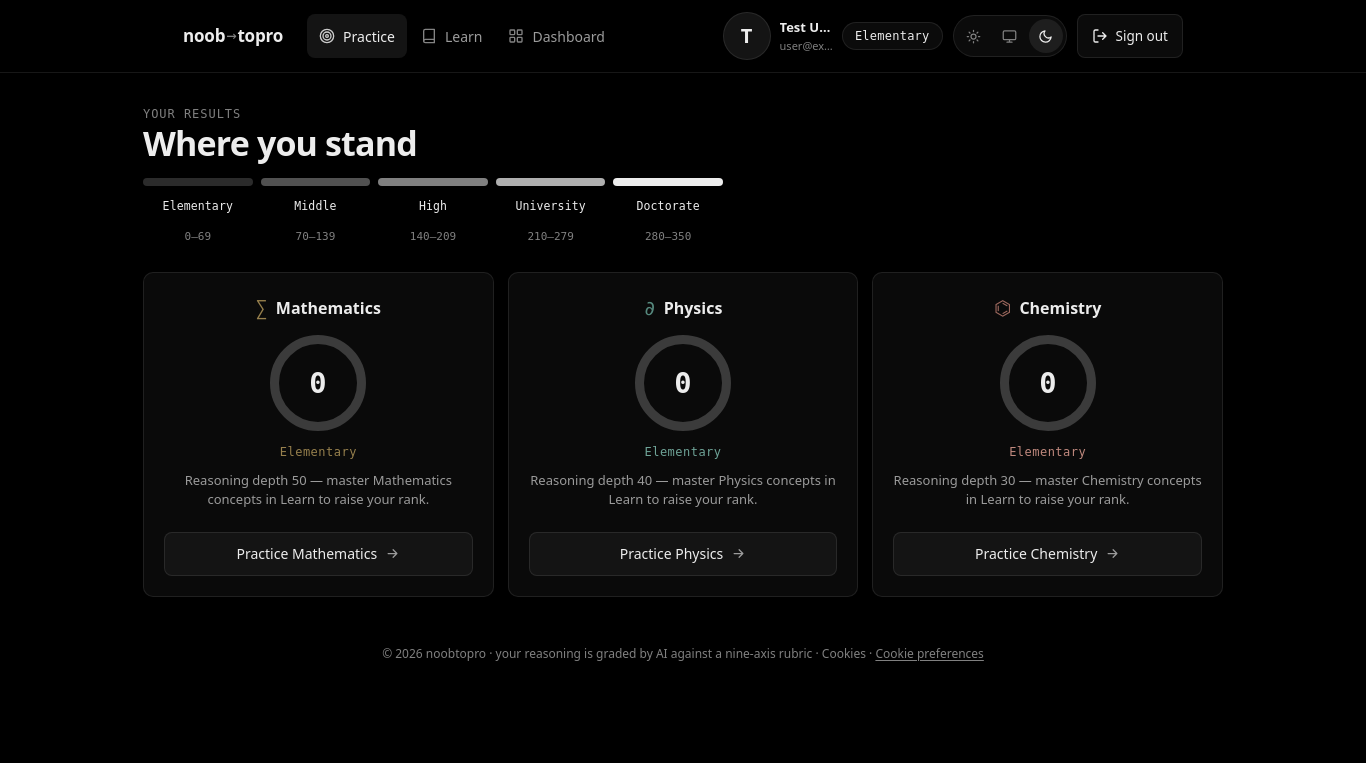
Test: Restart logo (reset) › signed-in: keeps persisted progress — Dashboard still shows stats after clicking the logo
Expected: the heading "Where you stand" is shown, [143, 120, 417, 166]
Click the button "Dashboard".
click(557, 36)  # box [496, 14, 617, 58]
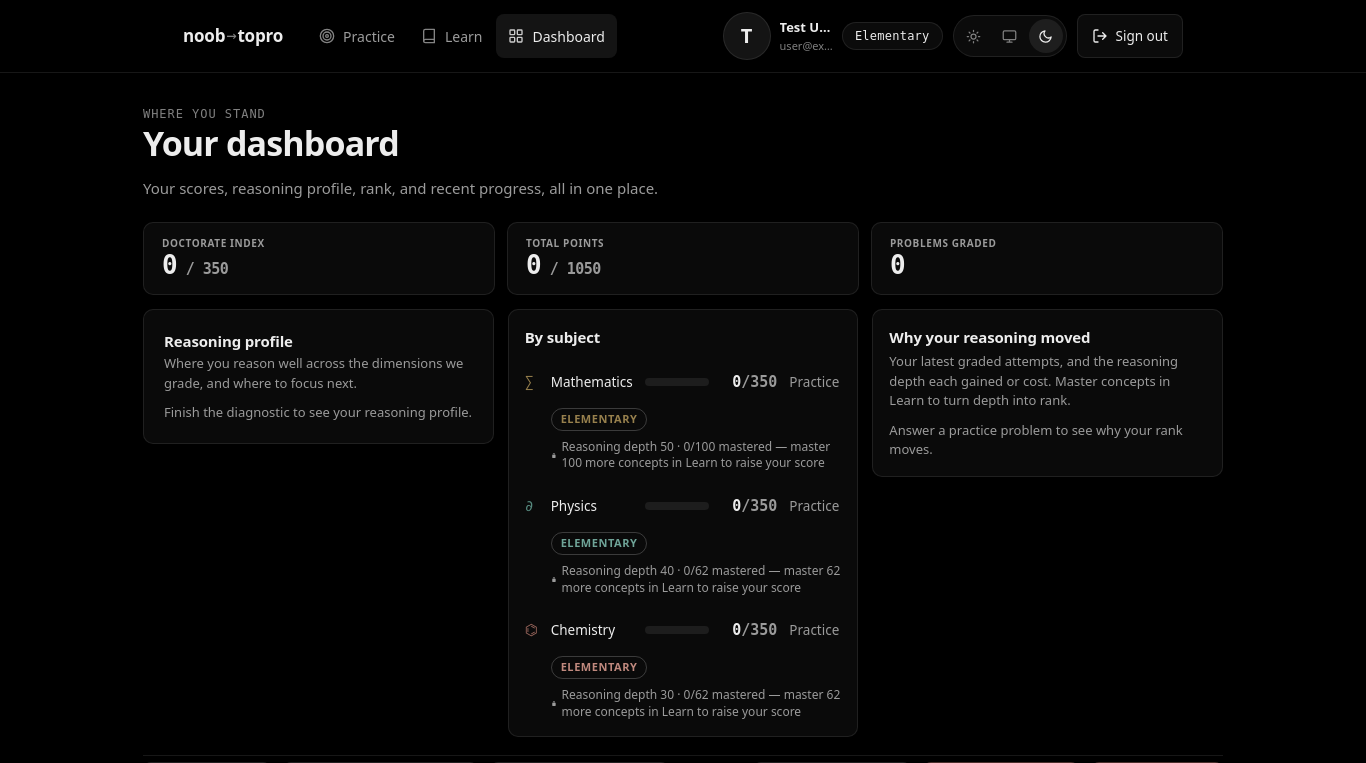
Result: the text "Doctorate index" is shown at [162, 236, 265, 250]
// Click the Restart logo, then let the re-hydrate settle.
Click the button titled "Restart".
click(233, 36)  # box [183, 20, 283, 52]
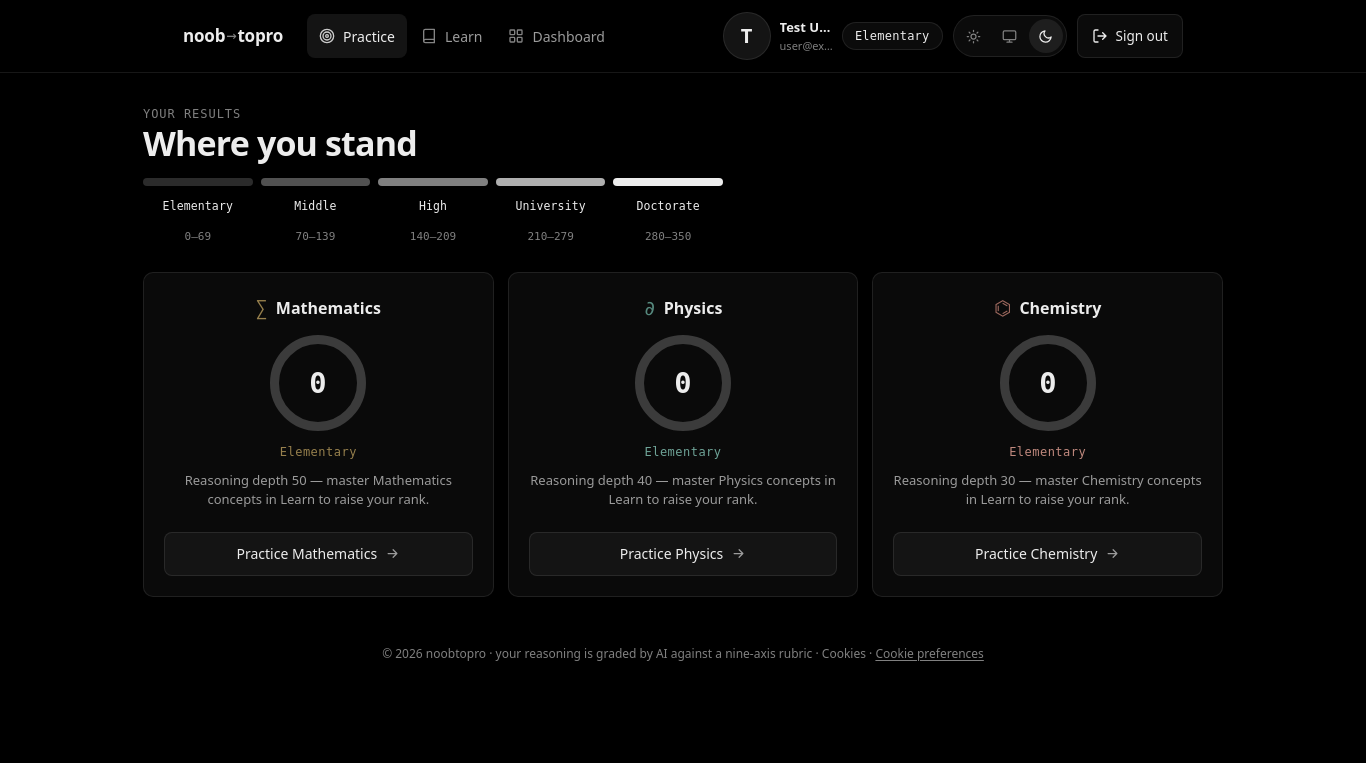
Click the button "Dashboard".
click(557, 36)  # box [496, 14, 617, 58]
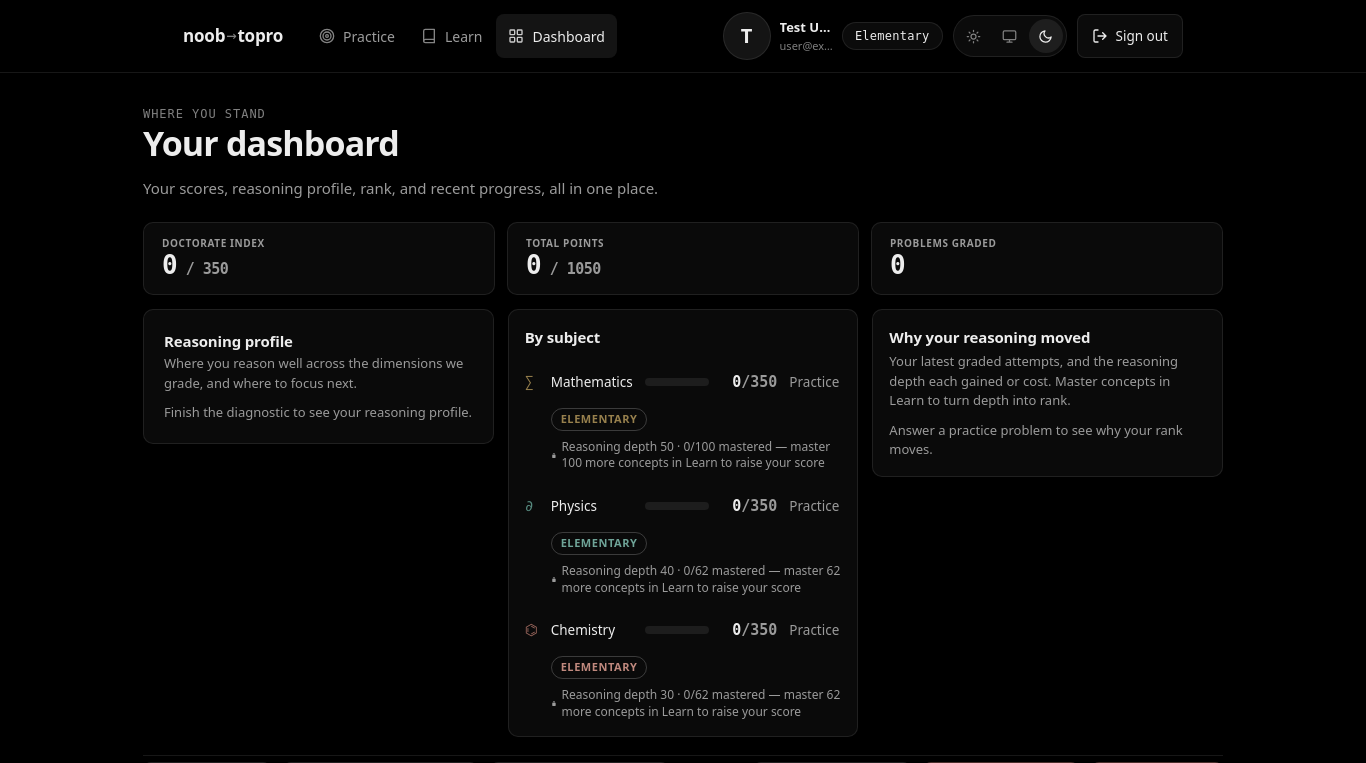
Result: the text "Doctorate index" is shown at [162, 236, 265, 250]
Result: the text "Total points" is shown at [526, 236, 604, 250]
